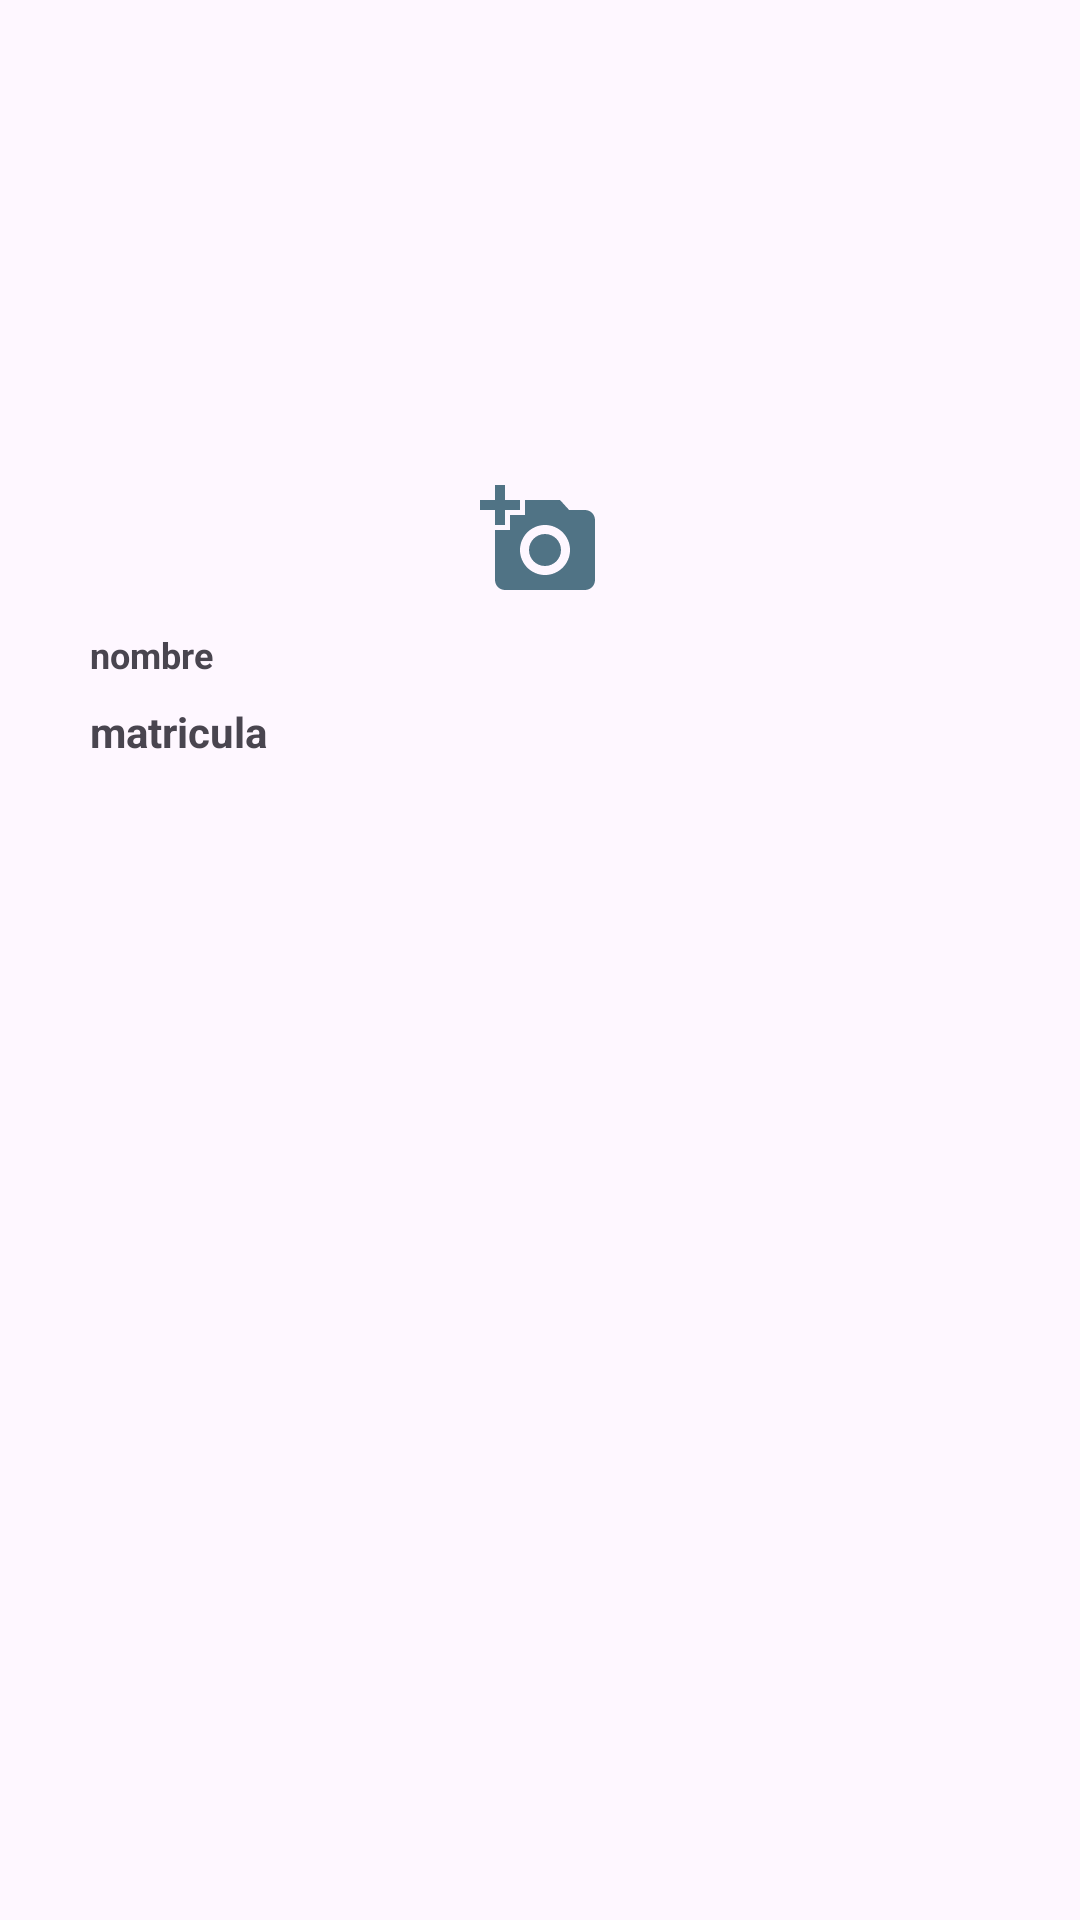

Icons on this 1080 x 1920 Android screen, each with the point to tap as (x,y):
foto: (537,537)
